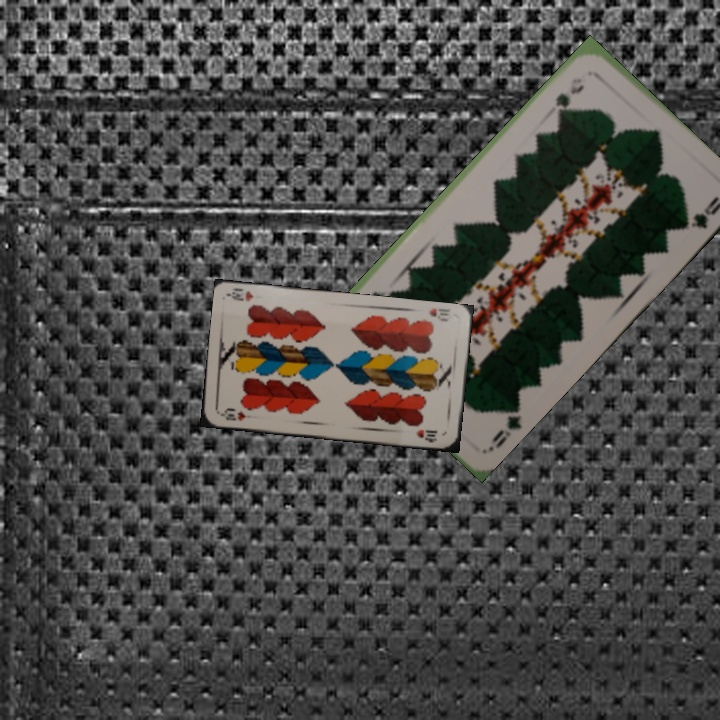G9: (484, 401, 524, 454), (551, 73, 587, 118)
H10: (216, 405, 248, 423), (425, 304, 453, 324)
